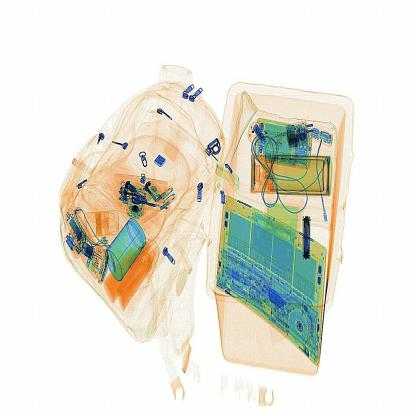scissors: (302, 213, 312, 267)
